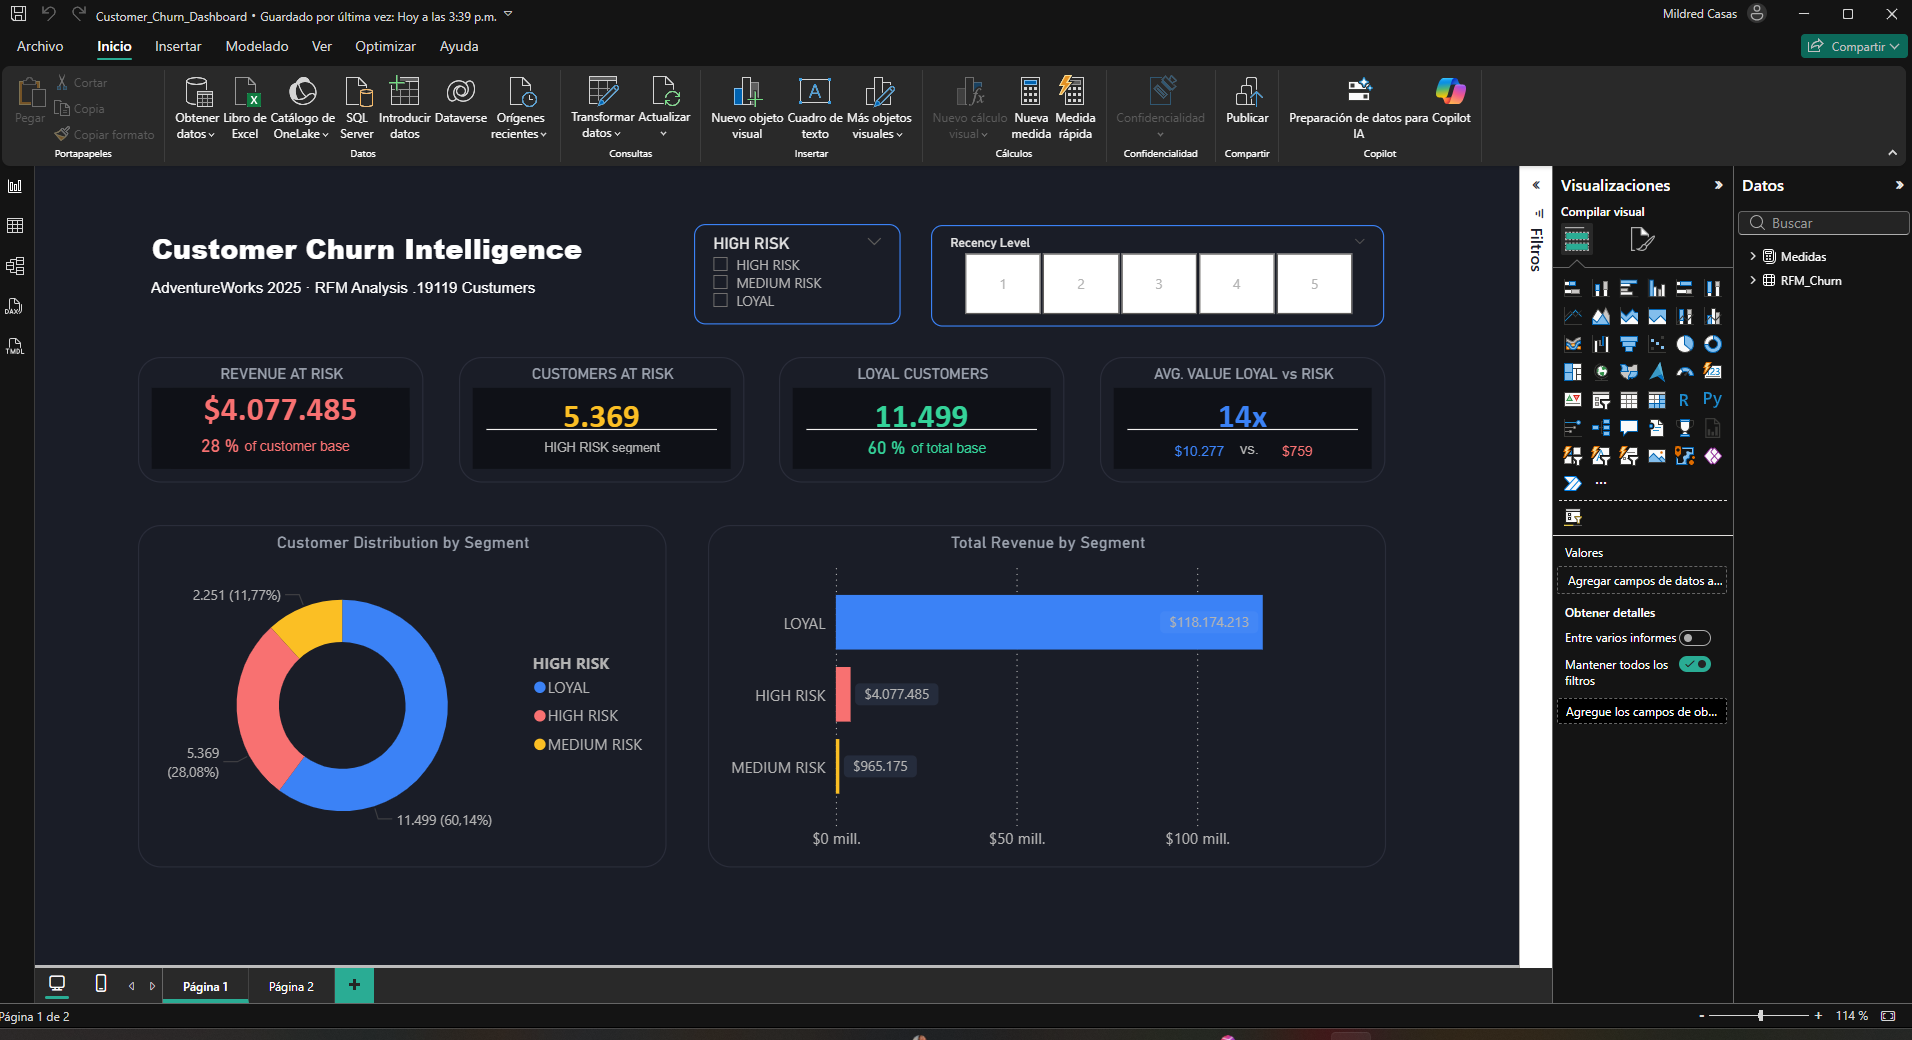

Layout of this report page (visuals, bound fields, positions):
{"tool":"powerbi","page":{"name":"Página 1","canvas":[1300,700],"ordinal":0},"visuals":[{"type":"cardVisual","title":"REVENUE AT RISK","fields":{"Data":["RFM_Churn.Revenue at Risk"]},"box":[90.2,167.6,250,110.2],"z":0,"group":"g2"},{"type":"group","id":"g1","title":"Grupo 3","box":[933.2,167.6,250,110],"z":0,"group":"g6"},{"type":"cardVisual","title":"AVG. VALUE LOYAL vs RISK","fields":{"Data":["RFM_Churn.Loyal vs Risk Ratio"]},"box":[933.2,167.6,250,110],"z":0,"group":"g1"},{"type":"cardVisual","title":"CUSTOMERS AT RISK","fields":{"Data":["RFM_Churn.Clientes HIGH RISK"]},"box":[371.2,167.7,250,110],"z":0,"group":"g3"},{"type":"cardVisual","title":"LOYAL CUSTOMERS","fields":{"Data":["RFM_Churn.Clientes LOYAL"]},"box":[652.2,167.7,250,110],"z":0,"group":"g4"},{"type":"donutChart","title":"Customer Distribution by Segment","fields":{"Category":["RFM_Churn.churn_segment"],"Y":["RFM_Churn.Total_Custumers"]},"box":[90.2,314.6,462.8,300.3],"z":0},{"type":"card","fields":{"Values":["RFM_Churn.% High Risk Customers"]},"box":[129.9,228.2,64.6,35.9],"z":1000,"group":"g2"},{"type":"card","fields":{"Values":["RFM_Churn.Avg Value High Risk"]},"box":[1074.6,236.4,63.4,31.2],"z":1000,"group":"g6"},{"type":"barChart","title":"Total Revenue by Segment","fields":{"Category":["RFM_Churn.churn_segment"],"Y":["Sum(RFM_Churn.monetary)"]},"box":[589.4,314.3,594,300.3],"z":1000},{"type":"textbox","box":[97.1,51.1,446.9,72],"z":2000},{"type":"textbox","box":[175.4,231.1,132.2,34],"z":2000,"group":"g2"},{"type":"card","fields":{"Values":["RFM_Churn.Avg Value Loyal"]},"box":[984.6,236.4,70.7,31.2],"z":2000,"group":"g6"},{"type":"cardVisual","fields":{"Data":["RFM_Churn.Sub_Title"]},"box":[72.8,78.6,408.6,52.3],"z":3000},{"type":"group","id":"g2","title":"Grupo 1","box":[90.2,167.6,250,110.2],"z":4000},{"type":"group","id":"g3","title":"Grupo 2","box":[371.2,167.7,250,110],"z":5000},{"type":"group","id":"g4","title":"Grupo 3","box":[652.2,167.7,250,110],"z":6000},{"type":"textbox","box":[396.1,231.9,201.8,32.6],"z":6001,"group":"g3"},{"type":"textbox","box":[749.5,232.9,102.8,28.5],"z":6001,"group":"g4"},{"type":"group","id":"g5","title":"Grupo 5","box":[933.2,167.6,249.8,110.2],"z":7000},{"type":"slicer","fields":{"Values":["RFM_Churn.churn_segment"]},"box":[576.9,51,180.9,88.1],"z":8000},{"type":"card","fields":{"Values":["RFM_Churn.% Loyal Customers"]},"box":[713.7,233.8,65.2,28.5],"z":8000,"group":"g4"},{"type":"slicer","fields":{"Values":["RFM_Churn.r_score"]},"box":[785.2,51.3,397.3,88.6],"z":9000},{"type":"group","id":"g6","title":"Grupo 4","box":[933.2,167.6,249.8,110.2],"z":9002,"group":"g5"},{"type":"textbox","box":[1047.1,233.7,34,32.1],"z":9502,"group":"g5"}]}

Visuals, with their boxes on the page's 1300x700 design canvas (x1, y1, x2, y2). These are canvas units, not pixel positions in the 1912x1040 screenshot, which may show the page scaled, cropped or inside an application window:
"REVENUE AT RISK" cardVisual: [x1=90, y1=168, x2=340, y2=278]
"Grupo 3" group: [x1=933, y1=168, x2=1183, y2=278]
"AVG. VALUE LOYAL vs RISK" cardVisual: [x1=933, y1=168, x2=1183, y2=278]
"CUSTOMERS AT RISK" cardVisual: [x1=371, y1=168, x2=621, y2=278]
"LOYAL CUSTOMERS" cardVisual: [x1=652, y1=168, x2=902, y2=278]
"Customer Distribution by Segment" donutChart: [x1=90, y1=315, x2=553, y2=615]
card - RFM_Churn.% High Risk Customers: [x1=130, y1=228, x2=194, y2=264]
card - RFM_Churn.Avg Value High Risk: [x1=1075, y1=236, x2=1138, y2=268]
"Total Revenue by Segment" barChart: [x1=589, y1=314, x2=1183, y2=615]
textbox: [x1=97, y1=51, x2=544, y2=123]
textbox: [x1=175, y1=231, x2=308, y2=265]
card - RFM_Churn.Avg Value Loyal: [x1=985, y1=236, x2=1055, y2=268]
cardVisual - RFM_Churn.Sub_Title: [x1=73, y1=79, x2=481, y2=131]
"Grupo 1" group: [x1=90, y1=168, x2=340, y2=278]
"Grupo 2" group: [x1=371, y1=168, x2=621, y2=278]
"Grupo 3" group: [x1=652, y1=168, x2=902, y2=278]
textbox: [x1=396, y1=232, x2=598, y2=264]
textbox: [x1=750, y1=233, x2=852, y2=261]
"Grupo 5" group: [x1=933, y1=168, x2=1183, y2=278]
slicer - RFM_Churn.churn_segment: [x1=577, y1=51, x2=758, y2=139]
card - RFM_Churn.% Loyal Customers: [x1=714, y1=234, x2=779, y2=262]
slicer - RFM_Churn.r_score: [x1=785, y1=51, x2=1182, y2=140]
"Grupo 4" group: [x1=933, y1=168, x2=1183, y2=278]
textbox: [x1=1047, y1=234, x2=1081, y2=266]
